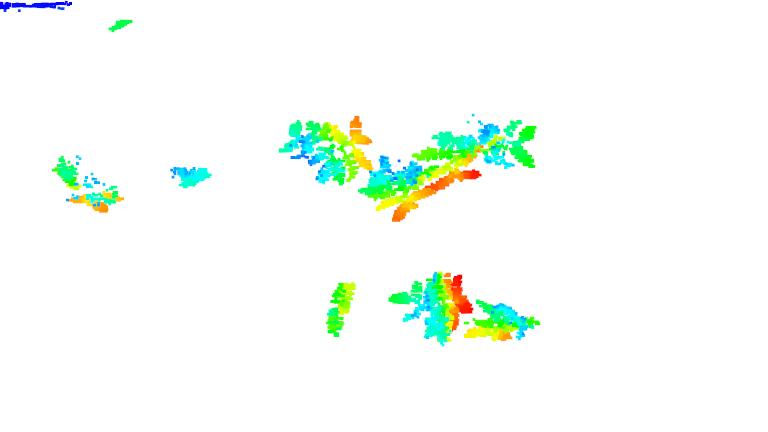chickpea: (368, 153, 481, 227), (281, 112, 375, 182), (417, 122, 540, 175), (389, 272, 471, 345), (52, 155, 126, 212), (464, 300, 541, 344), (323, 280, 358, 337)
